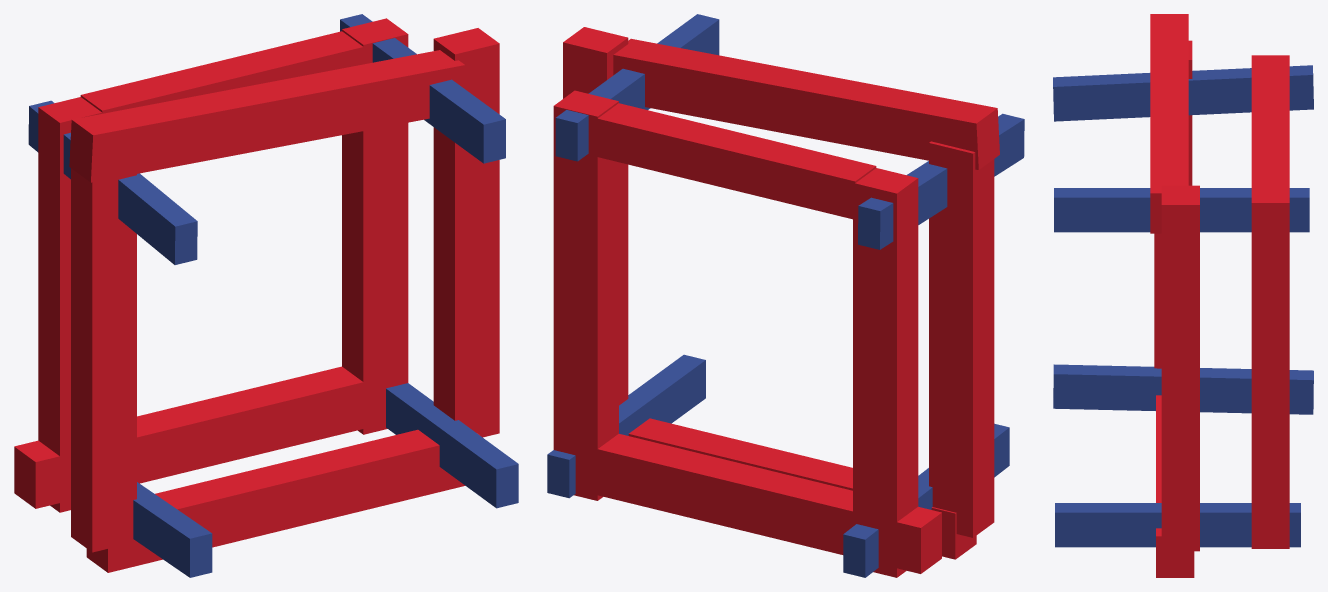
Rendered from tinker.obj.
3 renders of one model, left to right at view 1: azimuth 30°, elevation 25°; view 2: azimuth 150°, elevation 25°; view 3: azimuth 270°, elevation 25°, orthographic. The views are drawn at different scales.
Parts seen in each view (by area): view 1: group_0_15277357, group_0_3888547; view 2: group_0_15277357, group_0_3888547; view 3: group_0_15277357, group_0_3888547.
Boxes of the visible parts, box(x1,y1,x2,y2) form: group_0_15277357: box(14, 18, 499, 572); group_0_3888547: box(28, 14, 518, 577); group_0_15277357: box(553, 27, 999, 577); group_0_3888547: box(547, 14, 1024, 577); group_0_15277357: box(1150, 14, 1289, 577); group_0_3888547: box(1053, 65, 1313, 547).
Bounding box in the file's own units: 223 × 228 × 137.
